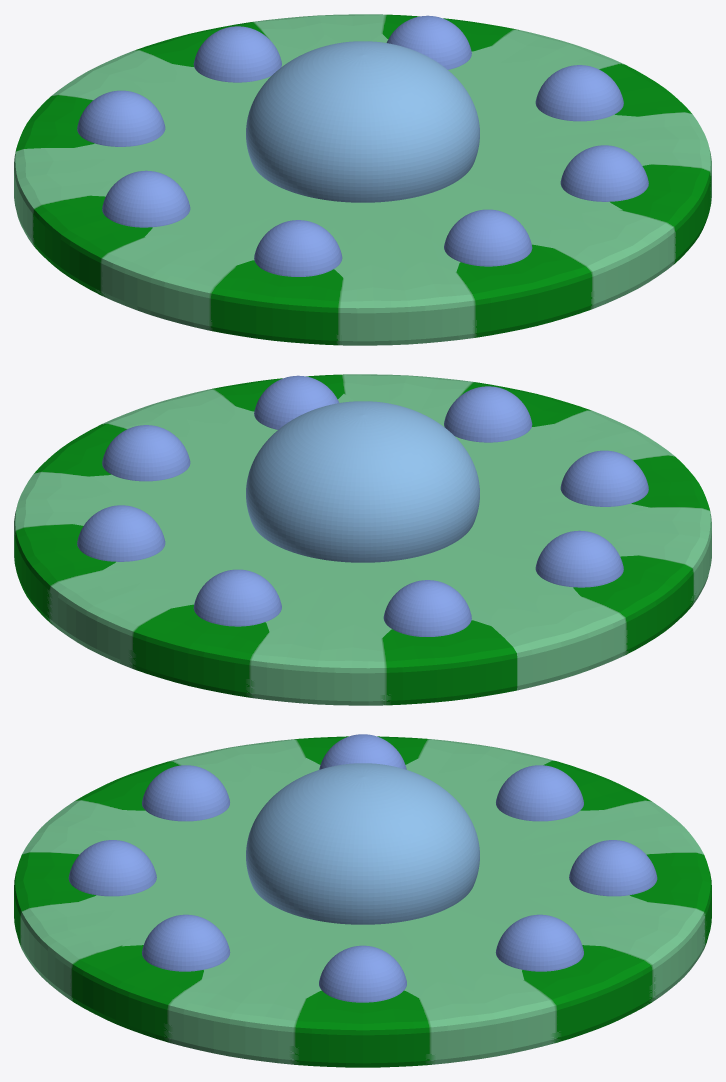
File: ufo1Model.fbx
3 views of the same model, one above another, from view 1: azimuth 30°, elevation 25°; view 2: azimuth 150°, elevation 25°; view 3: azimuth 270°, elevation 25° (orthographic).
Visible parts, largest first — view 1: UfoBody, MainBump, SmallBump3, SmallBump4, SmallBump1, SmallBump7, SmallBump6, SmallBump0, SmallBump2, SmallBump5; view 2: UfoBody, MainBump, SmallBump2, SmallBump6, SmallBump1, SmallBump5, SmallBump4, SmallBump0, SmallBump3, SmallBump7; view 3: UfoBody, MainBump, SmallBump0, SmallBump7, SmallBump5, SmallBump3, SmallBump2, SmallBump6, SmallBump4, SmallBump1.
Boxes of the visible parts, left/top/right/bottom form: UfoBody: left=14, top=14, right=711, bottom=345; MainBump: left=246, top=41, right=479, bottom=202; SmallBump3: left=444, top=209, right=532, bottom=266; SmallBump4: left=254, top=220, right=342, bottom=276; SmallBump1: left=102, top=170, right=190, bottom=227; SmallBump7: left=560, top=145, right=648, bottom=201; SmallBump6: left=77, top=90, right=165, bottom=146; SmallBump0: left=535, top=65, right=623, bottom=121; SmallBump2: left=193, top=26, right=281, bottom=82; SmallBump5: left=386, top=15, right=471, bottom=69; UfoBody: left=14, top=374, right=711, bottom=705; MainBump: left=246, top=401, right=479, bottom=562; SmallBump2: left=193, top=569, right=281, bottom=626; SmallBump6: left=383, top=580, right=471, bottom=636; SmallBump1: left=535, top=530, right=623, bottom=587; SmallBump5: left=77, top=505, right=165, bottom=561; SmallBump4: left=560, top=450, right=648, bottom=506; SmallBump0: left=102, top=425, right=190, bottom=481; SmallBump3: left=444, top=386, right=532, bottom=442; SmallBump7: left=254, top=375, right=339, bottom=429; UfoBody: left=14, top=736, right=711, bottom=1067; MainBump: left=246, top=763, right=479, bottom=924; SmallBump0: left=319, top=945, right=406, bottom=1002; SmallBump7: left=142, top=914, right=230, bottom=971; SmallBump5: left=495, top=914, right=583, bottom=971; SmallBump3: left=68, top=840, right=156, bottom=896; SmallBump2: left=569, top=840, right=657, bottom=896; SmallBump6: left=496, top=765, right=583, bottom=821; SmallBump4: left=142, top=765, right=229, bottom=821; SmallBump1: left=319, top=734, right=406, bottom=769.
Bounding box in the file's own units: 589 × 141 × 589.
